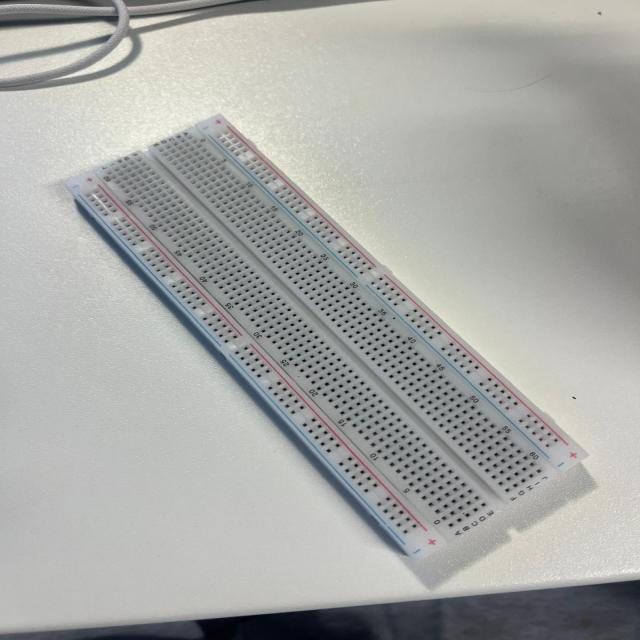BreadBoard: (61, 107, 600, 564)
